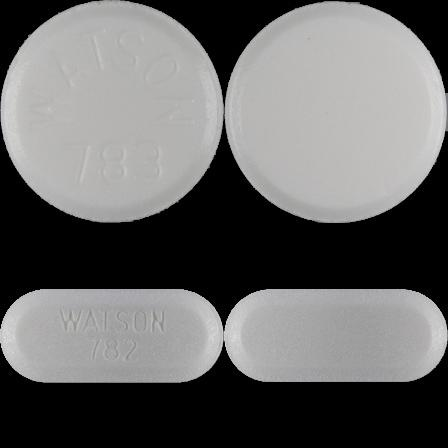68387-695: (0, 0, 224, 224)
